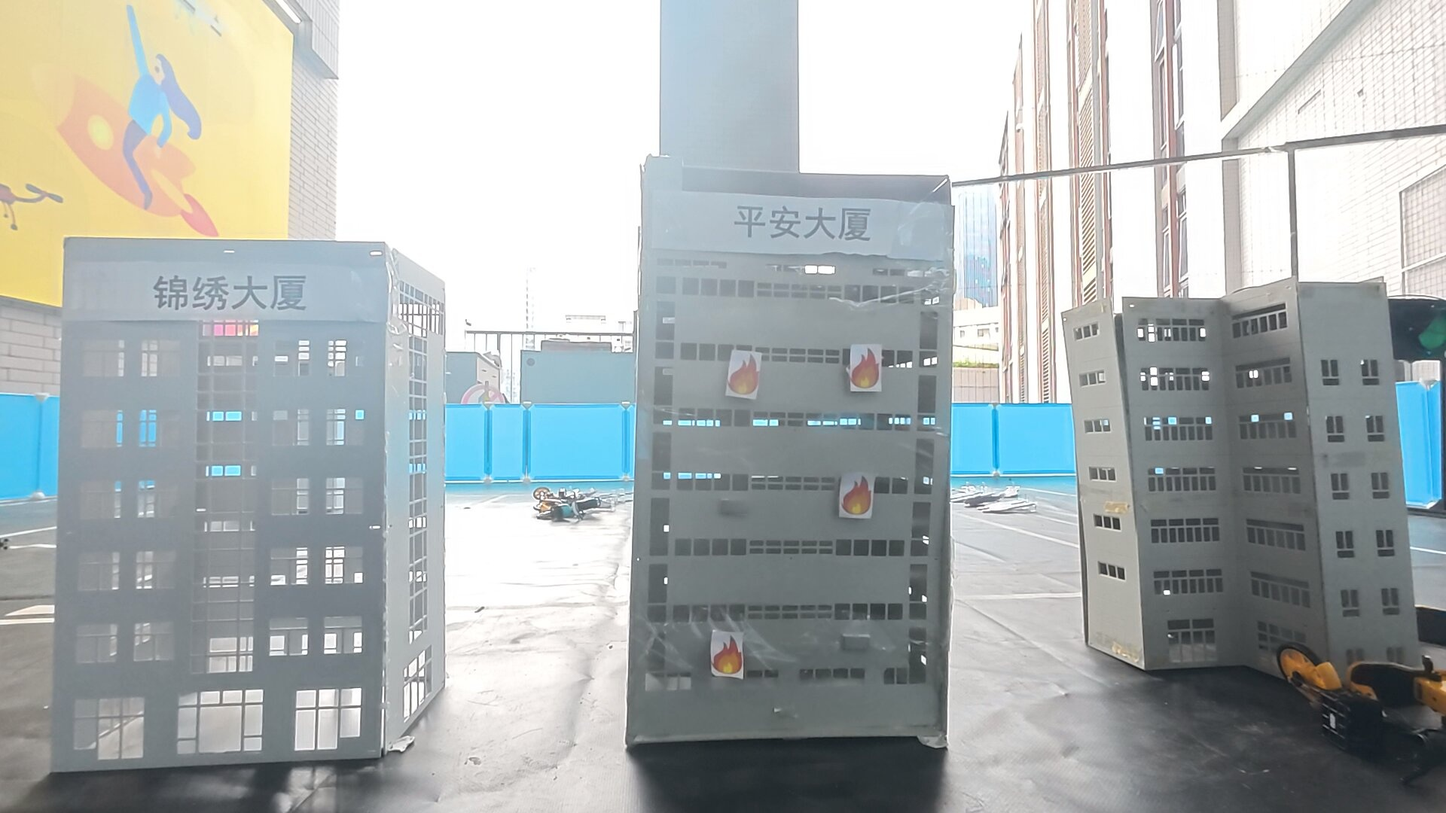fire: (725, 349, 764, 399), (708, 629, 747, 679), (846, 343, 885, 391), (839, 472, 877, 519)
